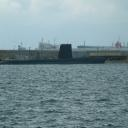submarine: (8, 45, 108, 66)
